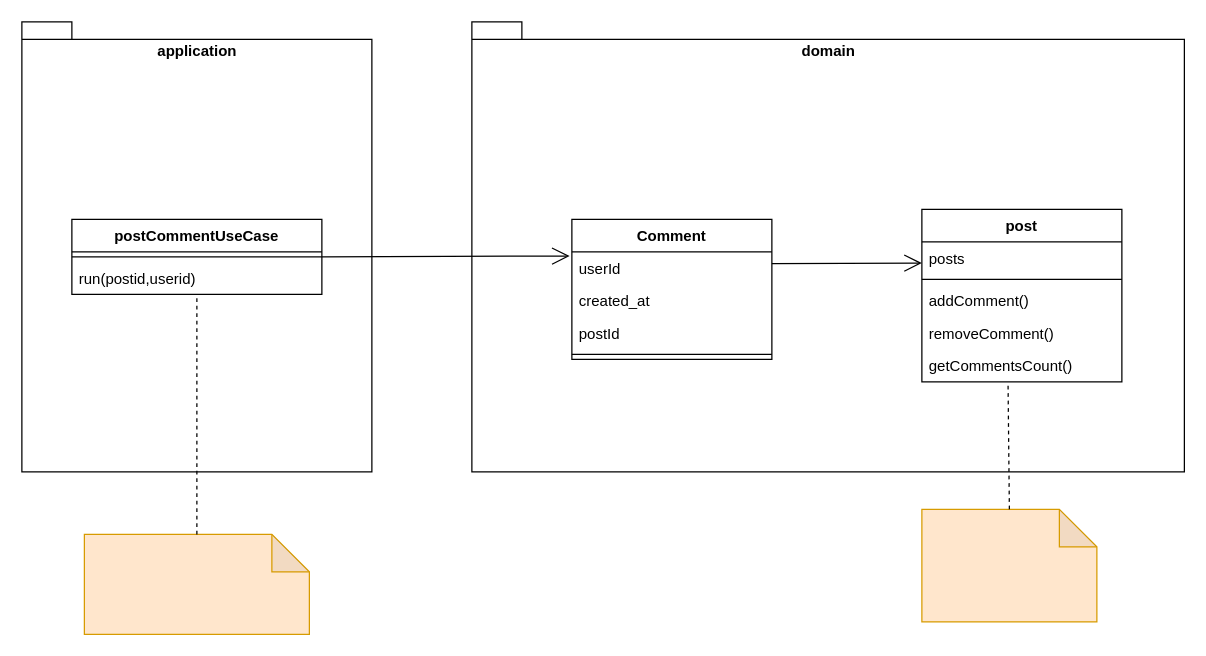
The diagram is 1206 pixels wide and 656 high, and some of its shapes have lost their labels. The centre of each missing label's shape, as x and y in pixels:
"rurの内部では、以下を実行 ・投稿の存在チェック ・投稿へコメントを追加する" goes at point 196,583.
"投稿にコメントは紐づくのでpostで管理する" goes at point 1009,565.
